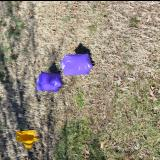cone: (16, 130, 40, 150)
cube: (60, 53, 94, 75), (36, 70, 64, 92)
